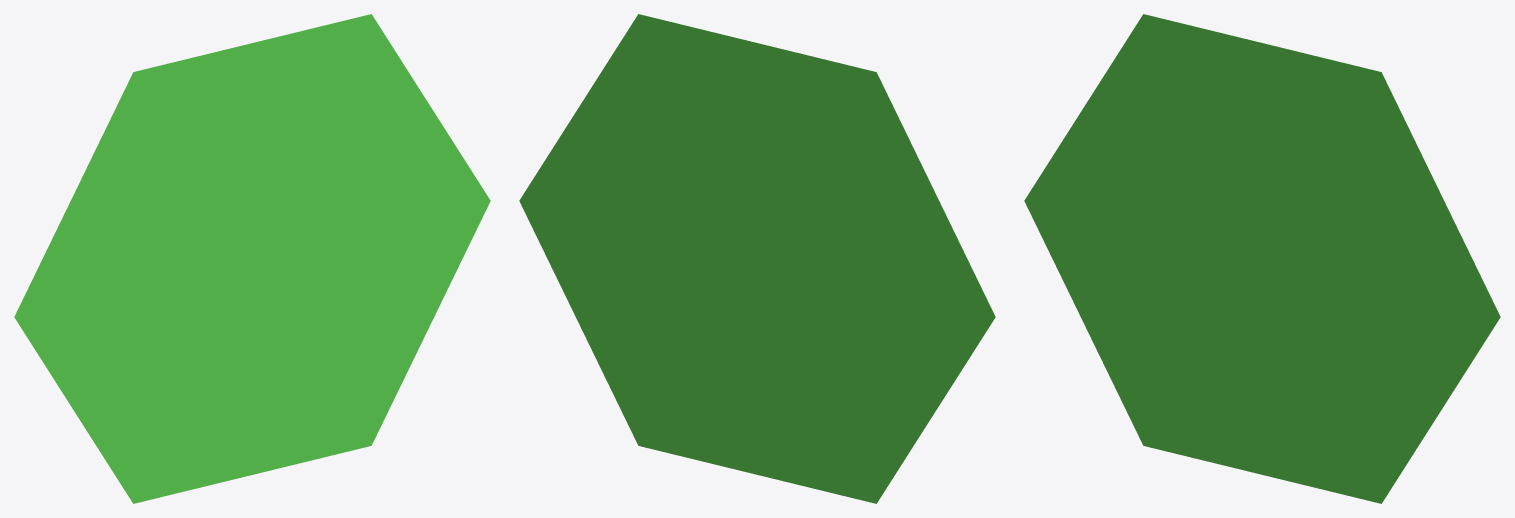
Rendered from hex6-flat-top.fbx.
The picture shows the model from 3 angles, left to right: view 1: azimuth 30°, elevation 25°; view 2: azimuth 150°, elevation 25°; view 3: azimuth 330°, elevation 25°; orthographic projection.
Visible parts, largest first — view 1: Empty_Mesh; view 2: Empty_Mesh; view 3: Empty_Mesh.
Boxes of the visible parts, <box> form: Empty_Mesh: <box>14,14,490,503</box>; Empty_Mesh: <box>519,14,995,503</box>; Empty_Mesh: <box>1024,14,1500,503</box>.
Bounding box in the file's own units: 160 × 139 × 1.7e-14.
